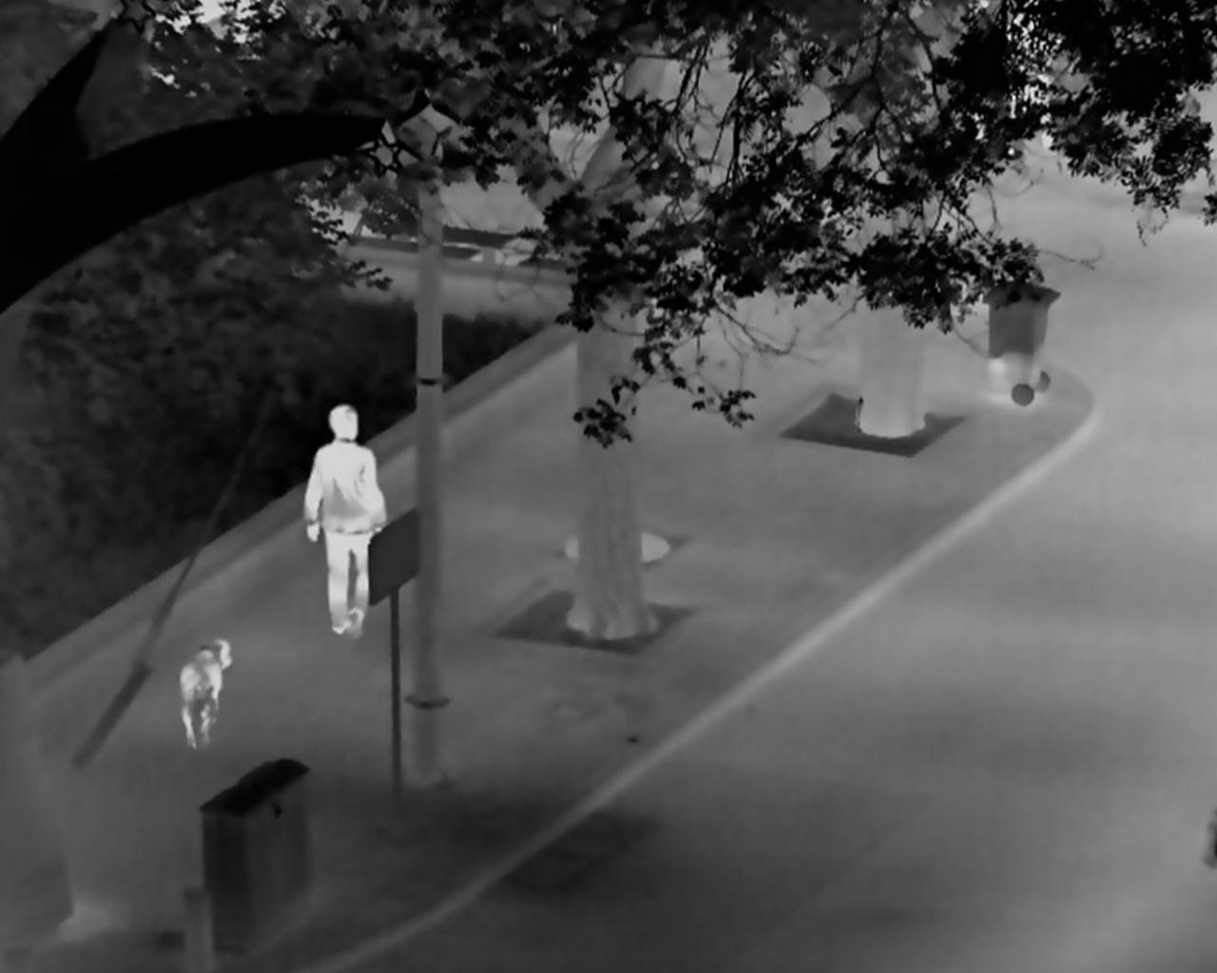person: (303, 403, 390, 637)
